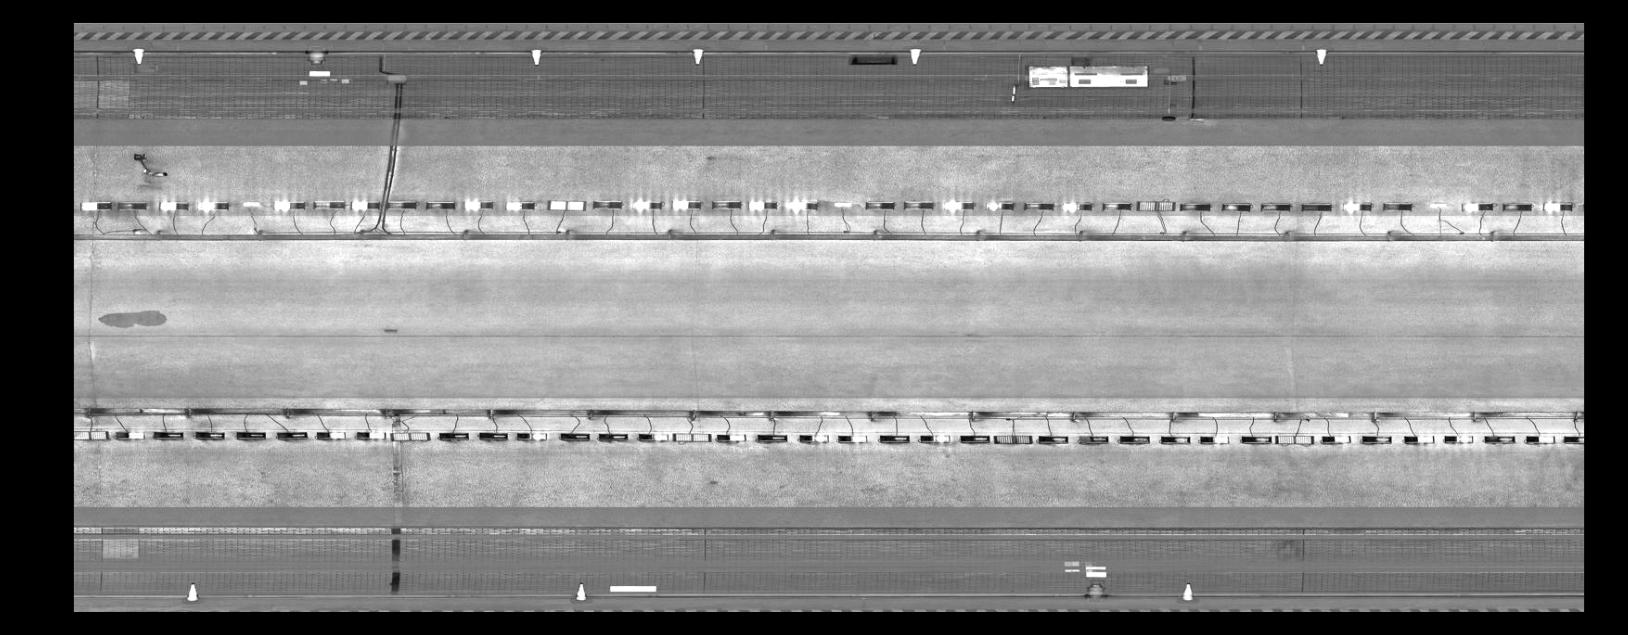light: (545, 196, 589, 214), (387, 427, 433, 444), (1135, 197, 1177, 214), (784, 195, 821, 214), (670, 430, 713, 445), (1272, 431, 1315, 446), (989, 431, 1035, 445), (459, 196, 496, 214), (74, 426, 111, 444), (499, 196, 536, 214), (630, 195, 666, 213), (1315, 431, 1355, 446), (1457, 198, 1497, 213), (347, 195, 384, 211), (713, 429, 751, 444), (753, 430, 790, 445), (1216, 199, 1255, 214), (915, 431, 954, 445), (194, 198, 230, 214), (708, 196, 744, 212), (795, 430, 832, 445), (1075, 432, 1111, 447), (1116, 431, 1152, 446), (1195, 431, 1231, 446), (1175, 199, 1214, 214), (435, 429, 473, 443), (513, 429, 551, 443), (557, 429, 595, 443), (1481, 432, 1519, 446), (1522, 432, 1561, 446), (590, 196, 625, 212), (744, 197, 780, 213), (1298, 199, 1335, 214), (1378, 199, 1415, 214), (474, 429, 512, 443), (1400, 431, 1437, 445), (1540, 198, 1574, 214), (230, 427, 270, 441), (1258, 199, 1295, 214), (1338, 199, 1375, 214), (274, 427, 310, 442), (1238, 432, 1274, 446), (271, 197, 309, 211), (110, 427, 148, 441), (148, 427, 187, 441), (942, 198, 977, 213), (1060, 199, 1095, 214), (1098, 198, 1134, 213), (314, 427, 349, 442), (309, 196, 347, 210), (833, 432, 870, 445), (1359, 432, 1393, 446), (876, 432, 913, 445), (1440, 432, 1476, 445), (670, 197, 703, 212), (1158, 432, 1191, 446), (1034, 433, 1073, 445), (862, 198, 897, 212), (901, 198, 937, 212), (192, 427, 227, 441), (353, 427, 388, 441), (596, 430, 631, 443), (957, 432, 993, 445), (77, 199, 114, 212), (112, 199, 150, 212), (155, 199, 192, 212), (1500, 200, 1535, 214), (636, 430, 671, 443), (422, 198, 458, 211), (1021, 199, 1057, 212), (983, 198, 1016, 212), (384, 199, 420, 211), (1561, 431, 1584, 444), (1426, 200, 1451, 210), (238, 198, 263, 205), (831, 200, 854, 208)
